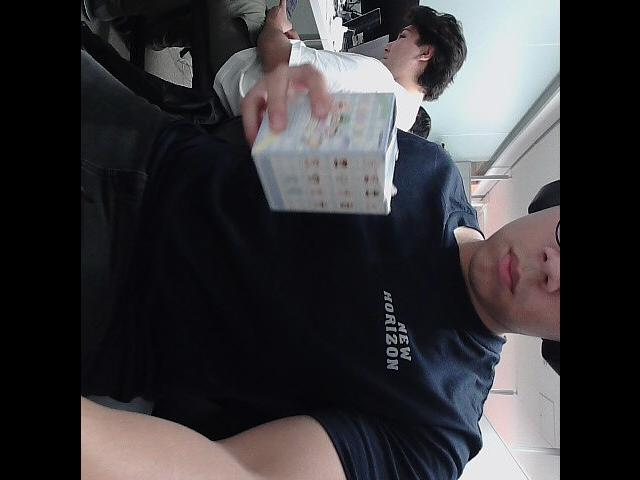Blind_box: (244, 90, 400, 221)
